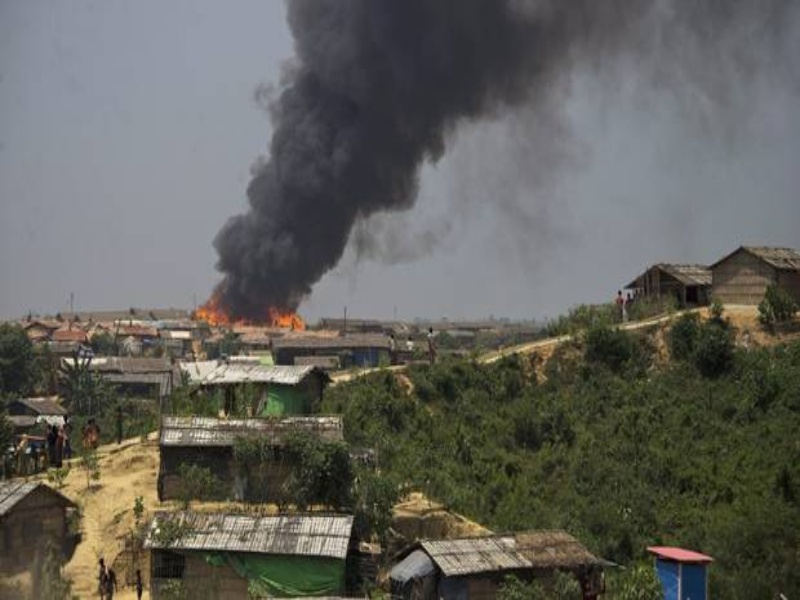smoke: (229, 5, 569, 311)
